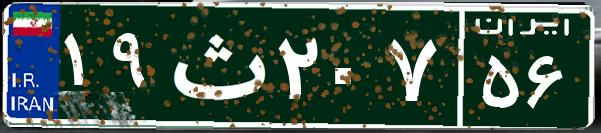0: (330, 28, 385, 110)
1: (57, 26, 110, 107)
2: (273, 28, 330, 110)
5: (475, 38, 525, 113)
6: (525, 38, 570, 115)
7: (385, 28, 445, 110)
9: (110, 28, 158, 105)
ث: (158, 15, 273, 115)
